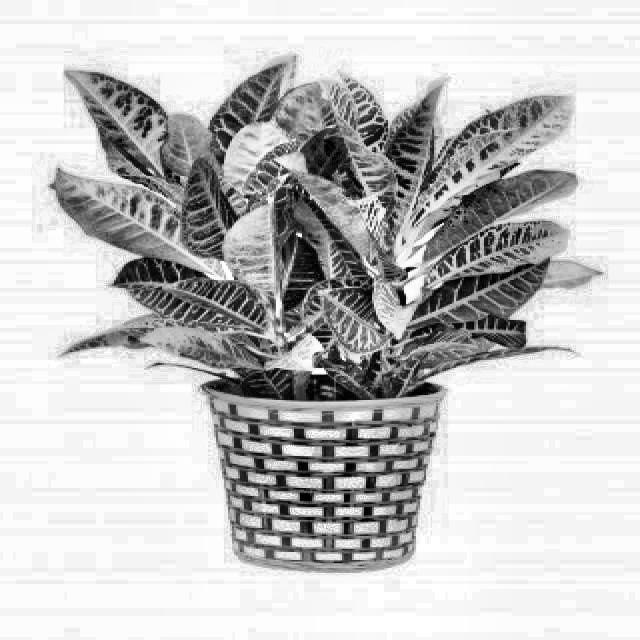plants: (48, 57, 586, 579)
